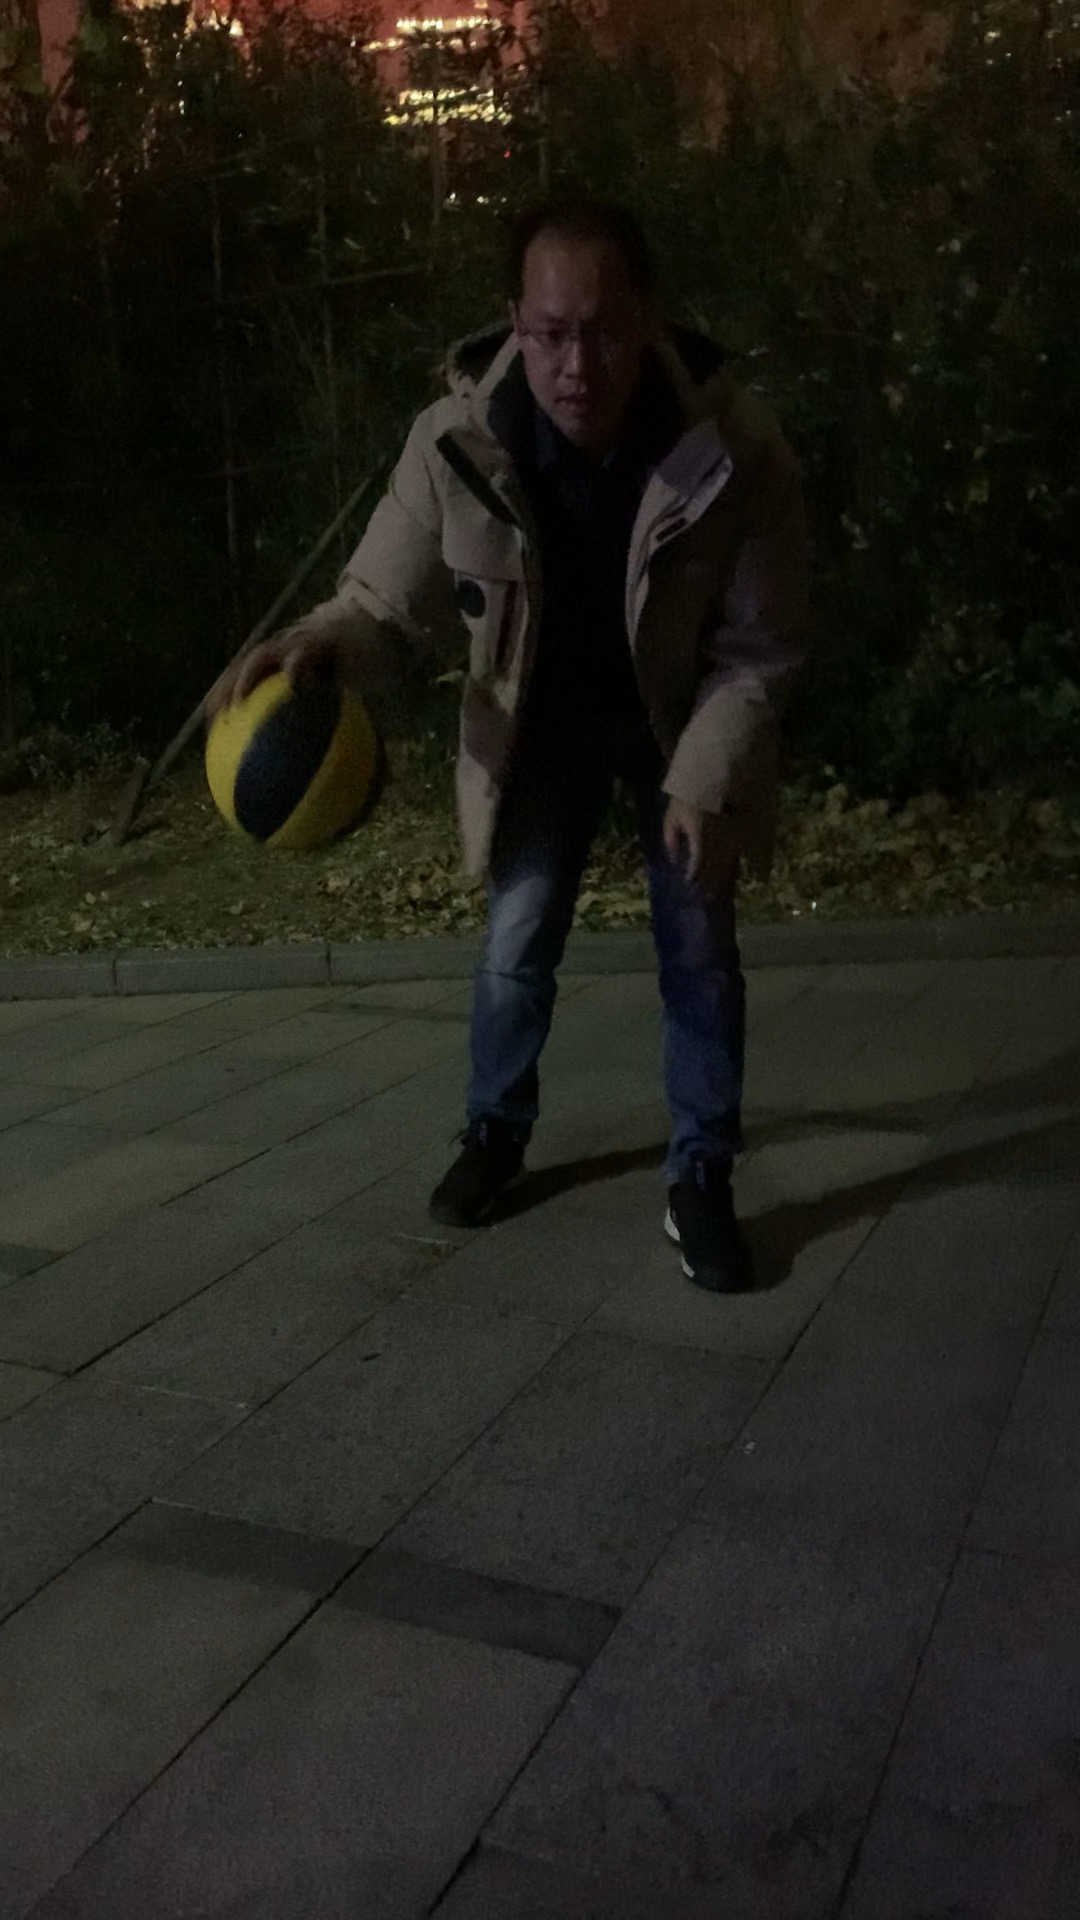ball: (200, 659, 400, 857)
